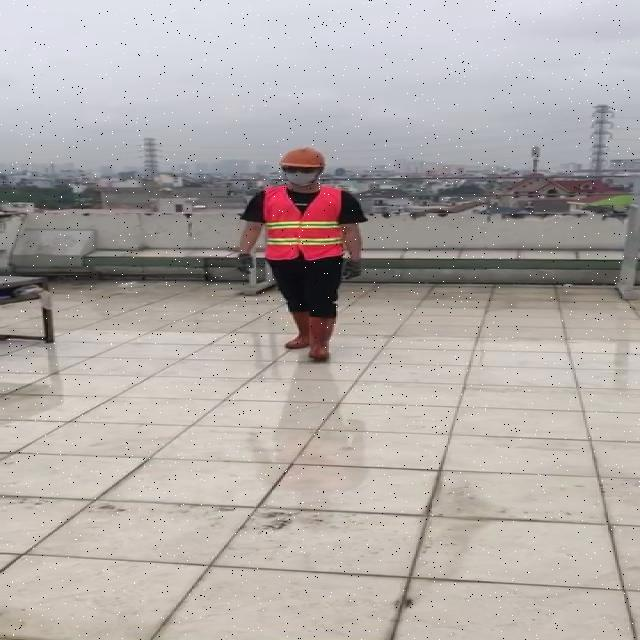Hard_hat: (276, 143, 331, 174)
Vest: (260, 182, 343, 263)
